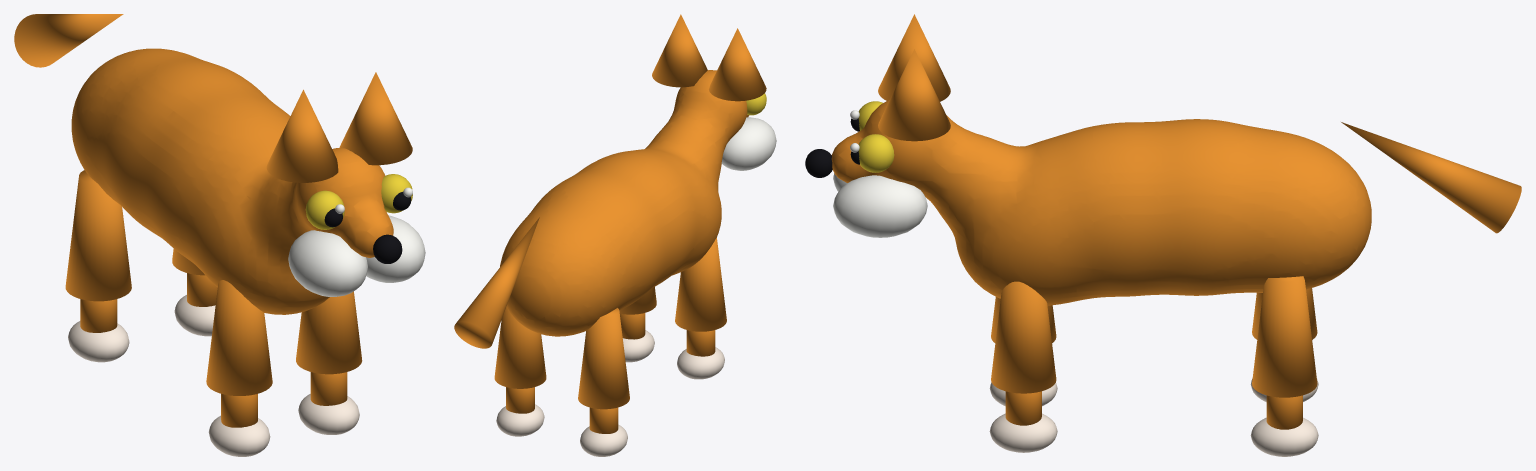
The model's file is Tiger.obj.
3 renders of one model, left to right at view 1: azimuth 30°, elevation 25°; view 2: azimuth 150°, elevation 25°; view 3: azimuth 270°, elevation 25°, orthographic. The views are drawn at different scales.
Parts seen in each view (by area): view 1: Tiger; view 2: Tiger; view 3: Tiger.
Boxes of the visible parts, <box> form: Tiger: <box>14,14,425,456</box>; Tiger: <box>454,14,776,456</box>; Tiger: <box>805,14,1521,456</box>.
Bounding box in the file's own units: 1.54 × 3.6 × 5.9.
